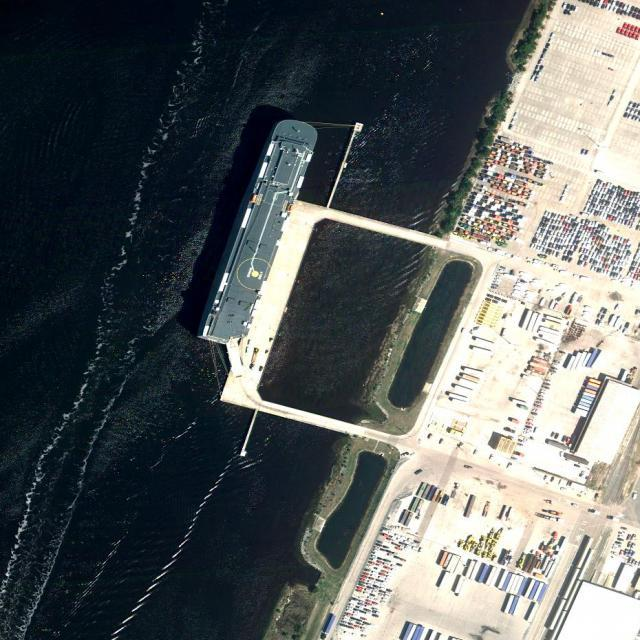Dock: (219, 195, 321, 412)
RoRo: (198, 107, 323, 363)
